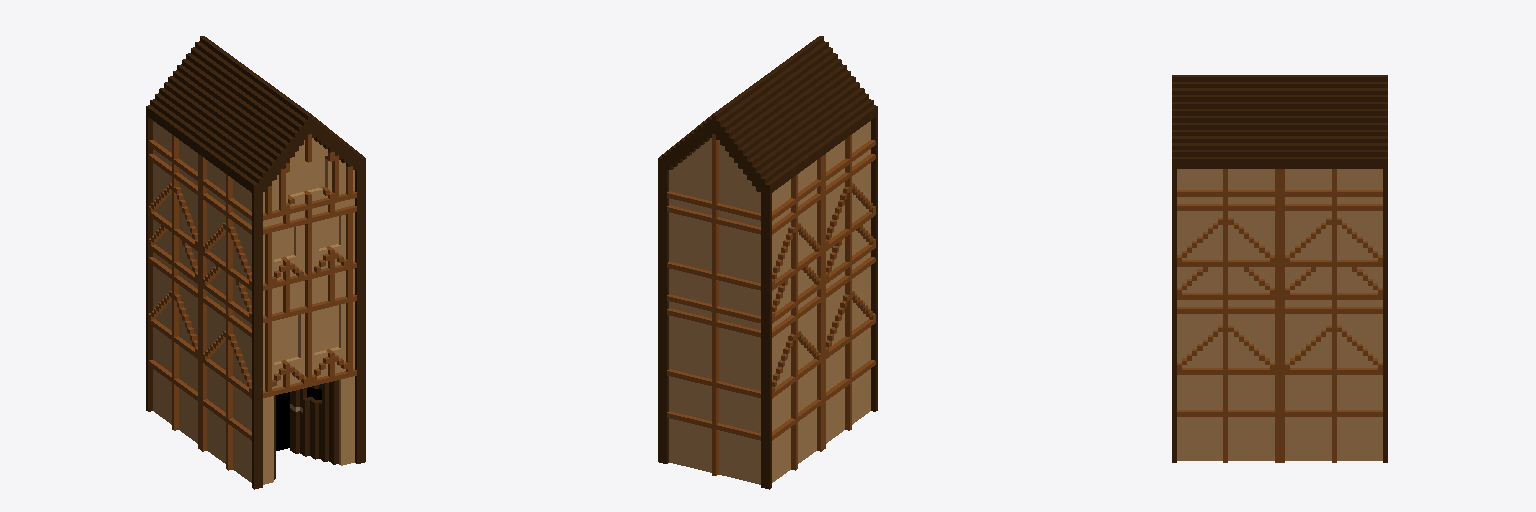
The picture shows the model from 3 angles: view 1: azimuth 30°, elevation 25°; view 2: azimuth 150°, elevation 25°; view 3: azimuth 270°, elevation 25°; orthographic projection.
Visible parts, largest first — view 1: Building; view 2: Building; view 3: Building.
Boxes of the visible parts, x1=… form: Building: x1=146, y1=36, x2=365, y2=489; Building: x1=658, y1=36, x2=877, y2=489; Building: x1=1172, y1=75, x2=1387, y2=462.
Bounding box in the file's own units: 25 × 77 × 42.
Materials: 1 (1 with a texture image).